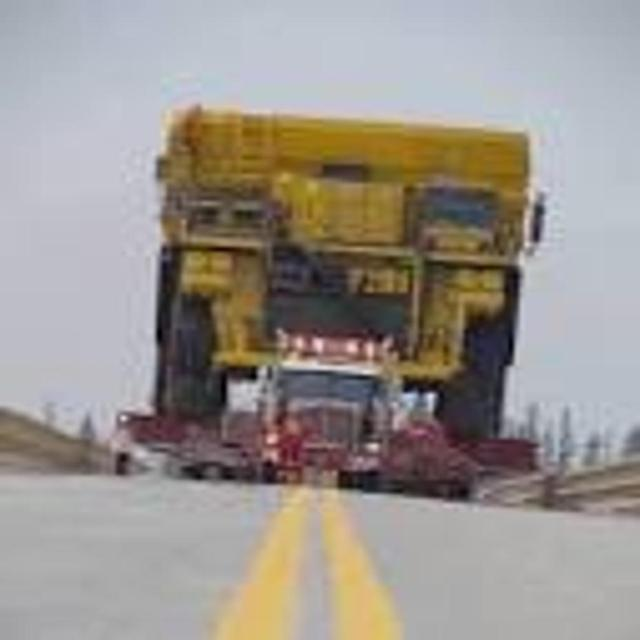dump_truck: (147, 75, 538, 433)
